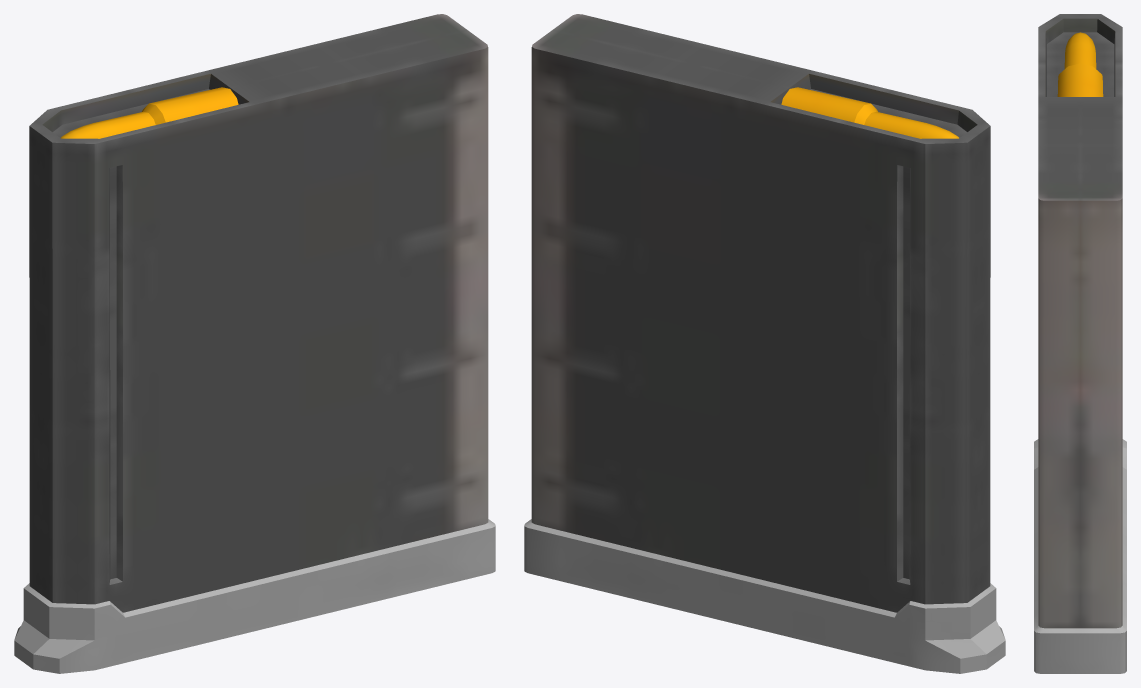
Rendered from Sniper Ammo.glb.
3 renders of one model, left to right at view 1: azimuth 30°, elevation 25°; view 2: azimuth 150°, elevation 25°; view 3: azimuth 270°, elevation 25°, orthographic. The views are drawn at different scales.
Parts seen in each view (by area): view 1: Gun_Sniper_Ammo; view 2: Gun_Sniper_Ammo; view 3: Gun_Sniper_Ammo.
Part boxes in pixels (box(x1,y1,x2,y2)): Gun_Sniper_Ammo: box(14, 14, 495, 673); Gun_Sniper_Ammo: box(524, 14, 1005, 673); Gun_Sniper_Ammo: box(1034, 14, 1126, 673).
Bounding box in the file's own units: 0.1384 × 0.1546 × 0.0275.
Materials: 1 (1 with a texture image).
